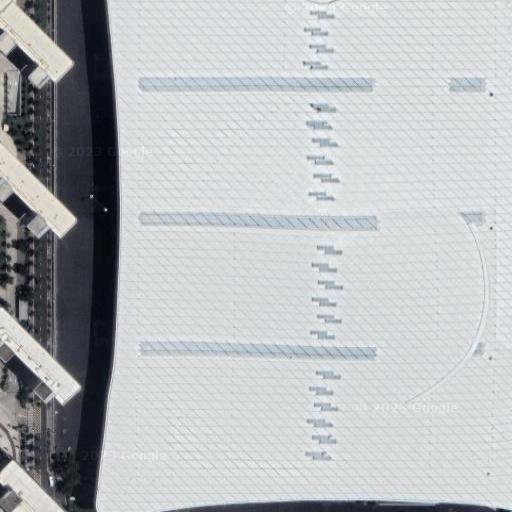building: (95, 0, 512, 512), (18, 294, 28, 319)
